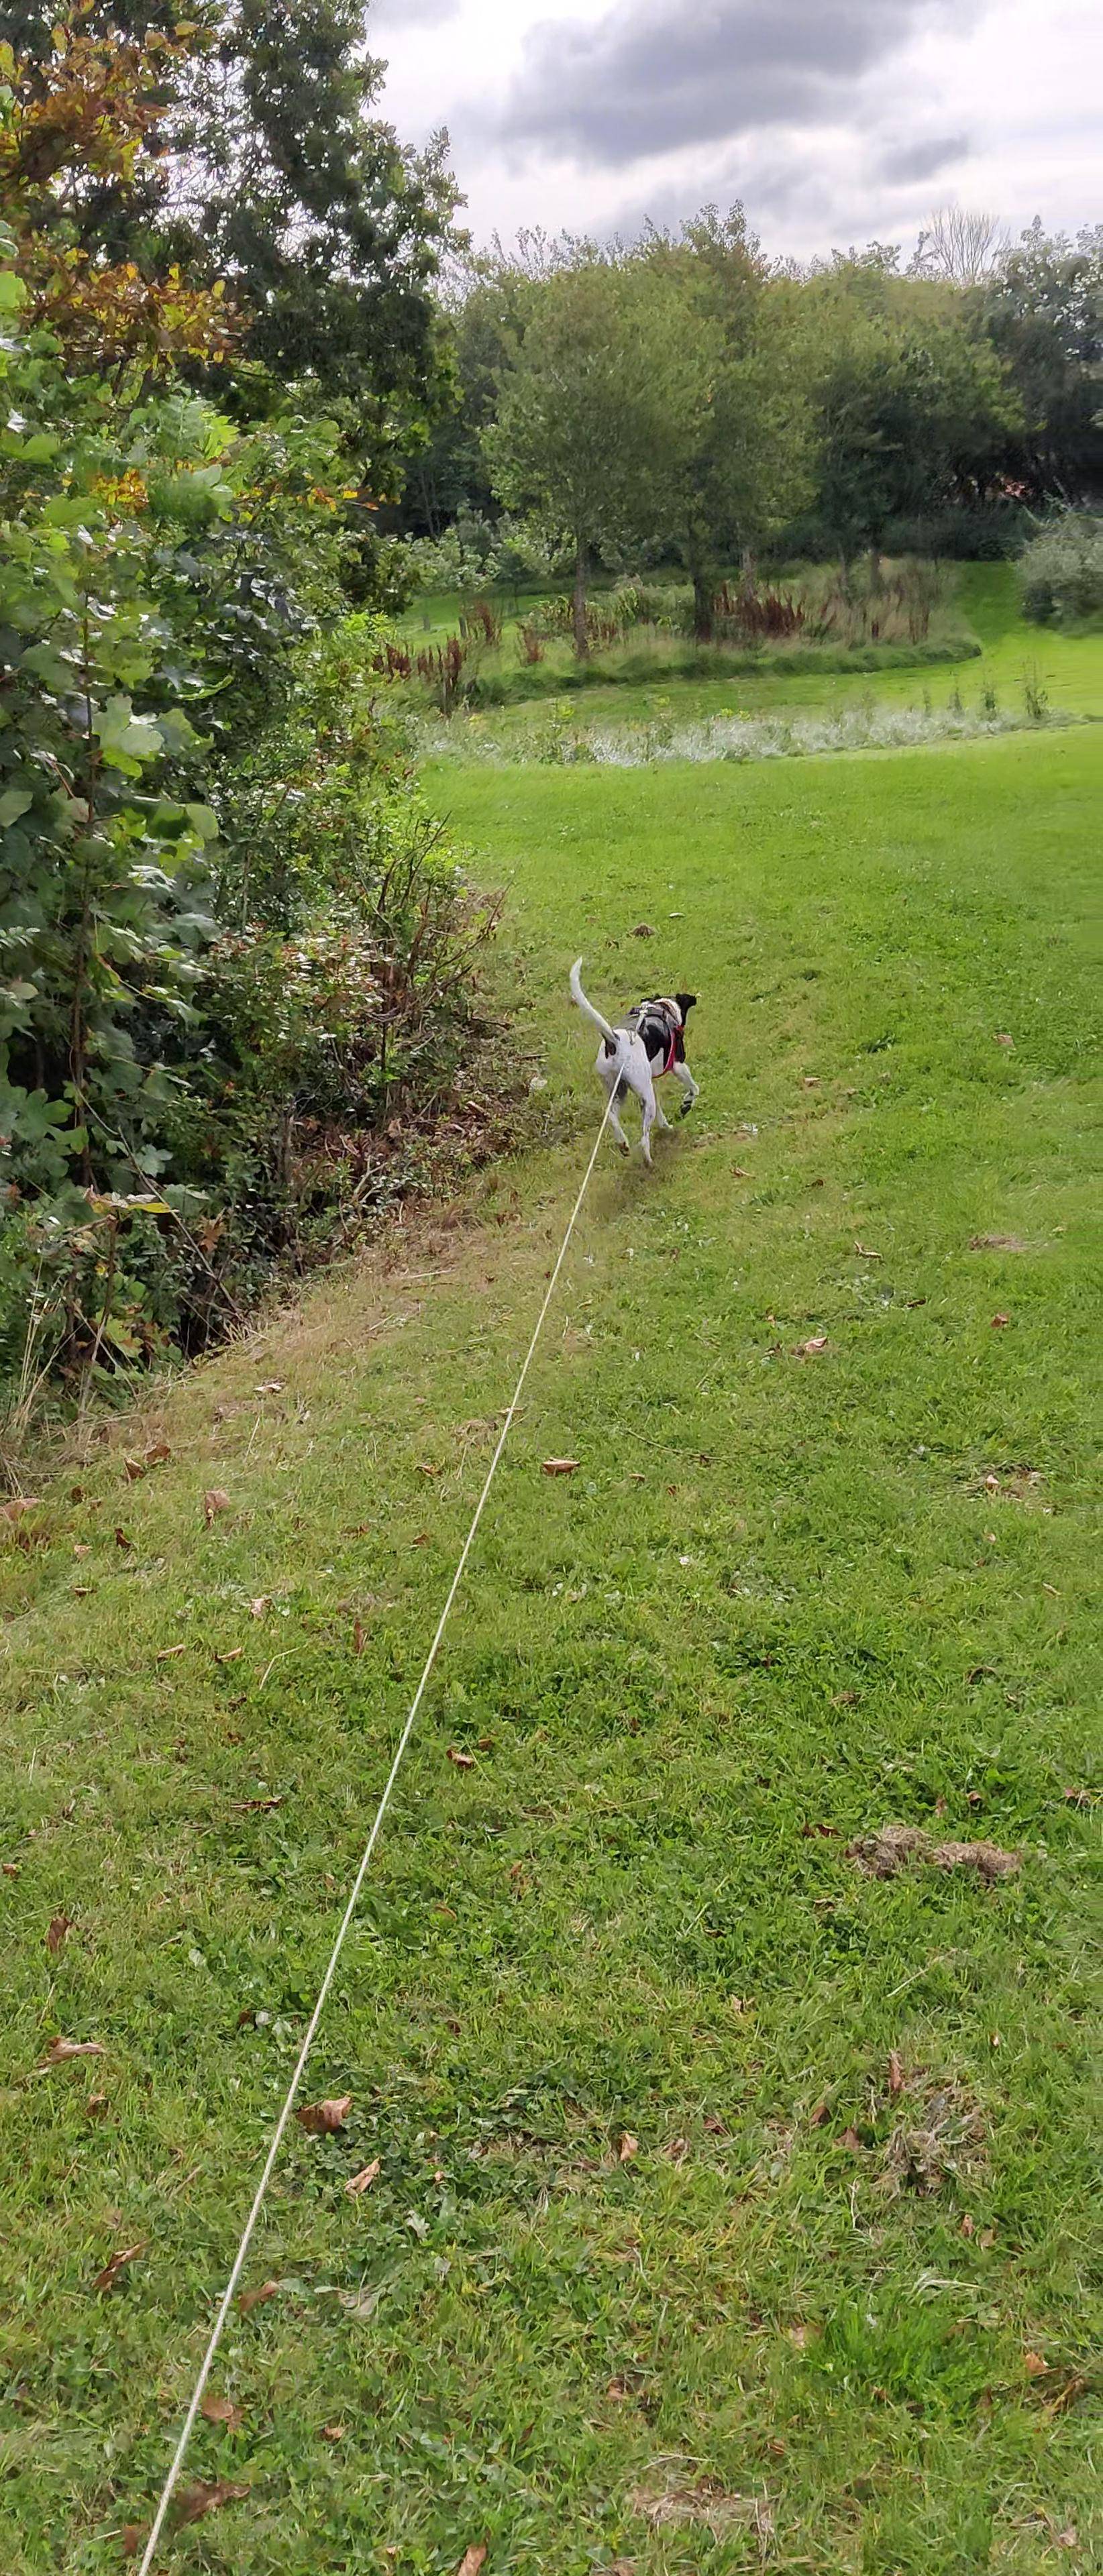Dog: (559, 951, 704, 1170)
